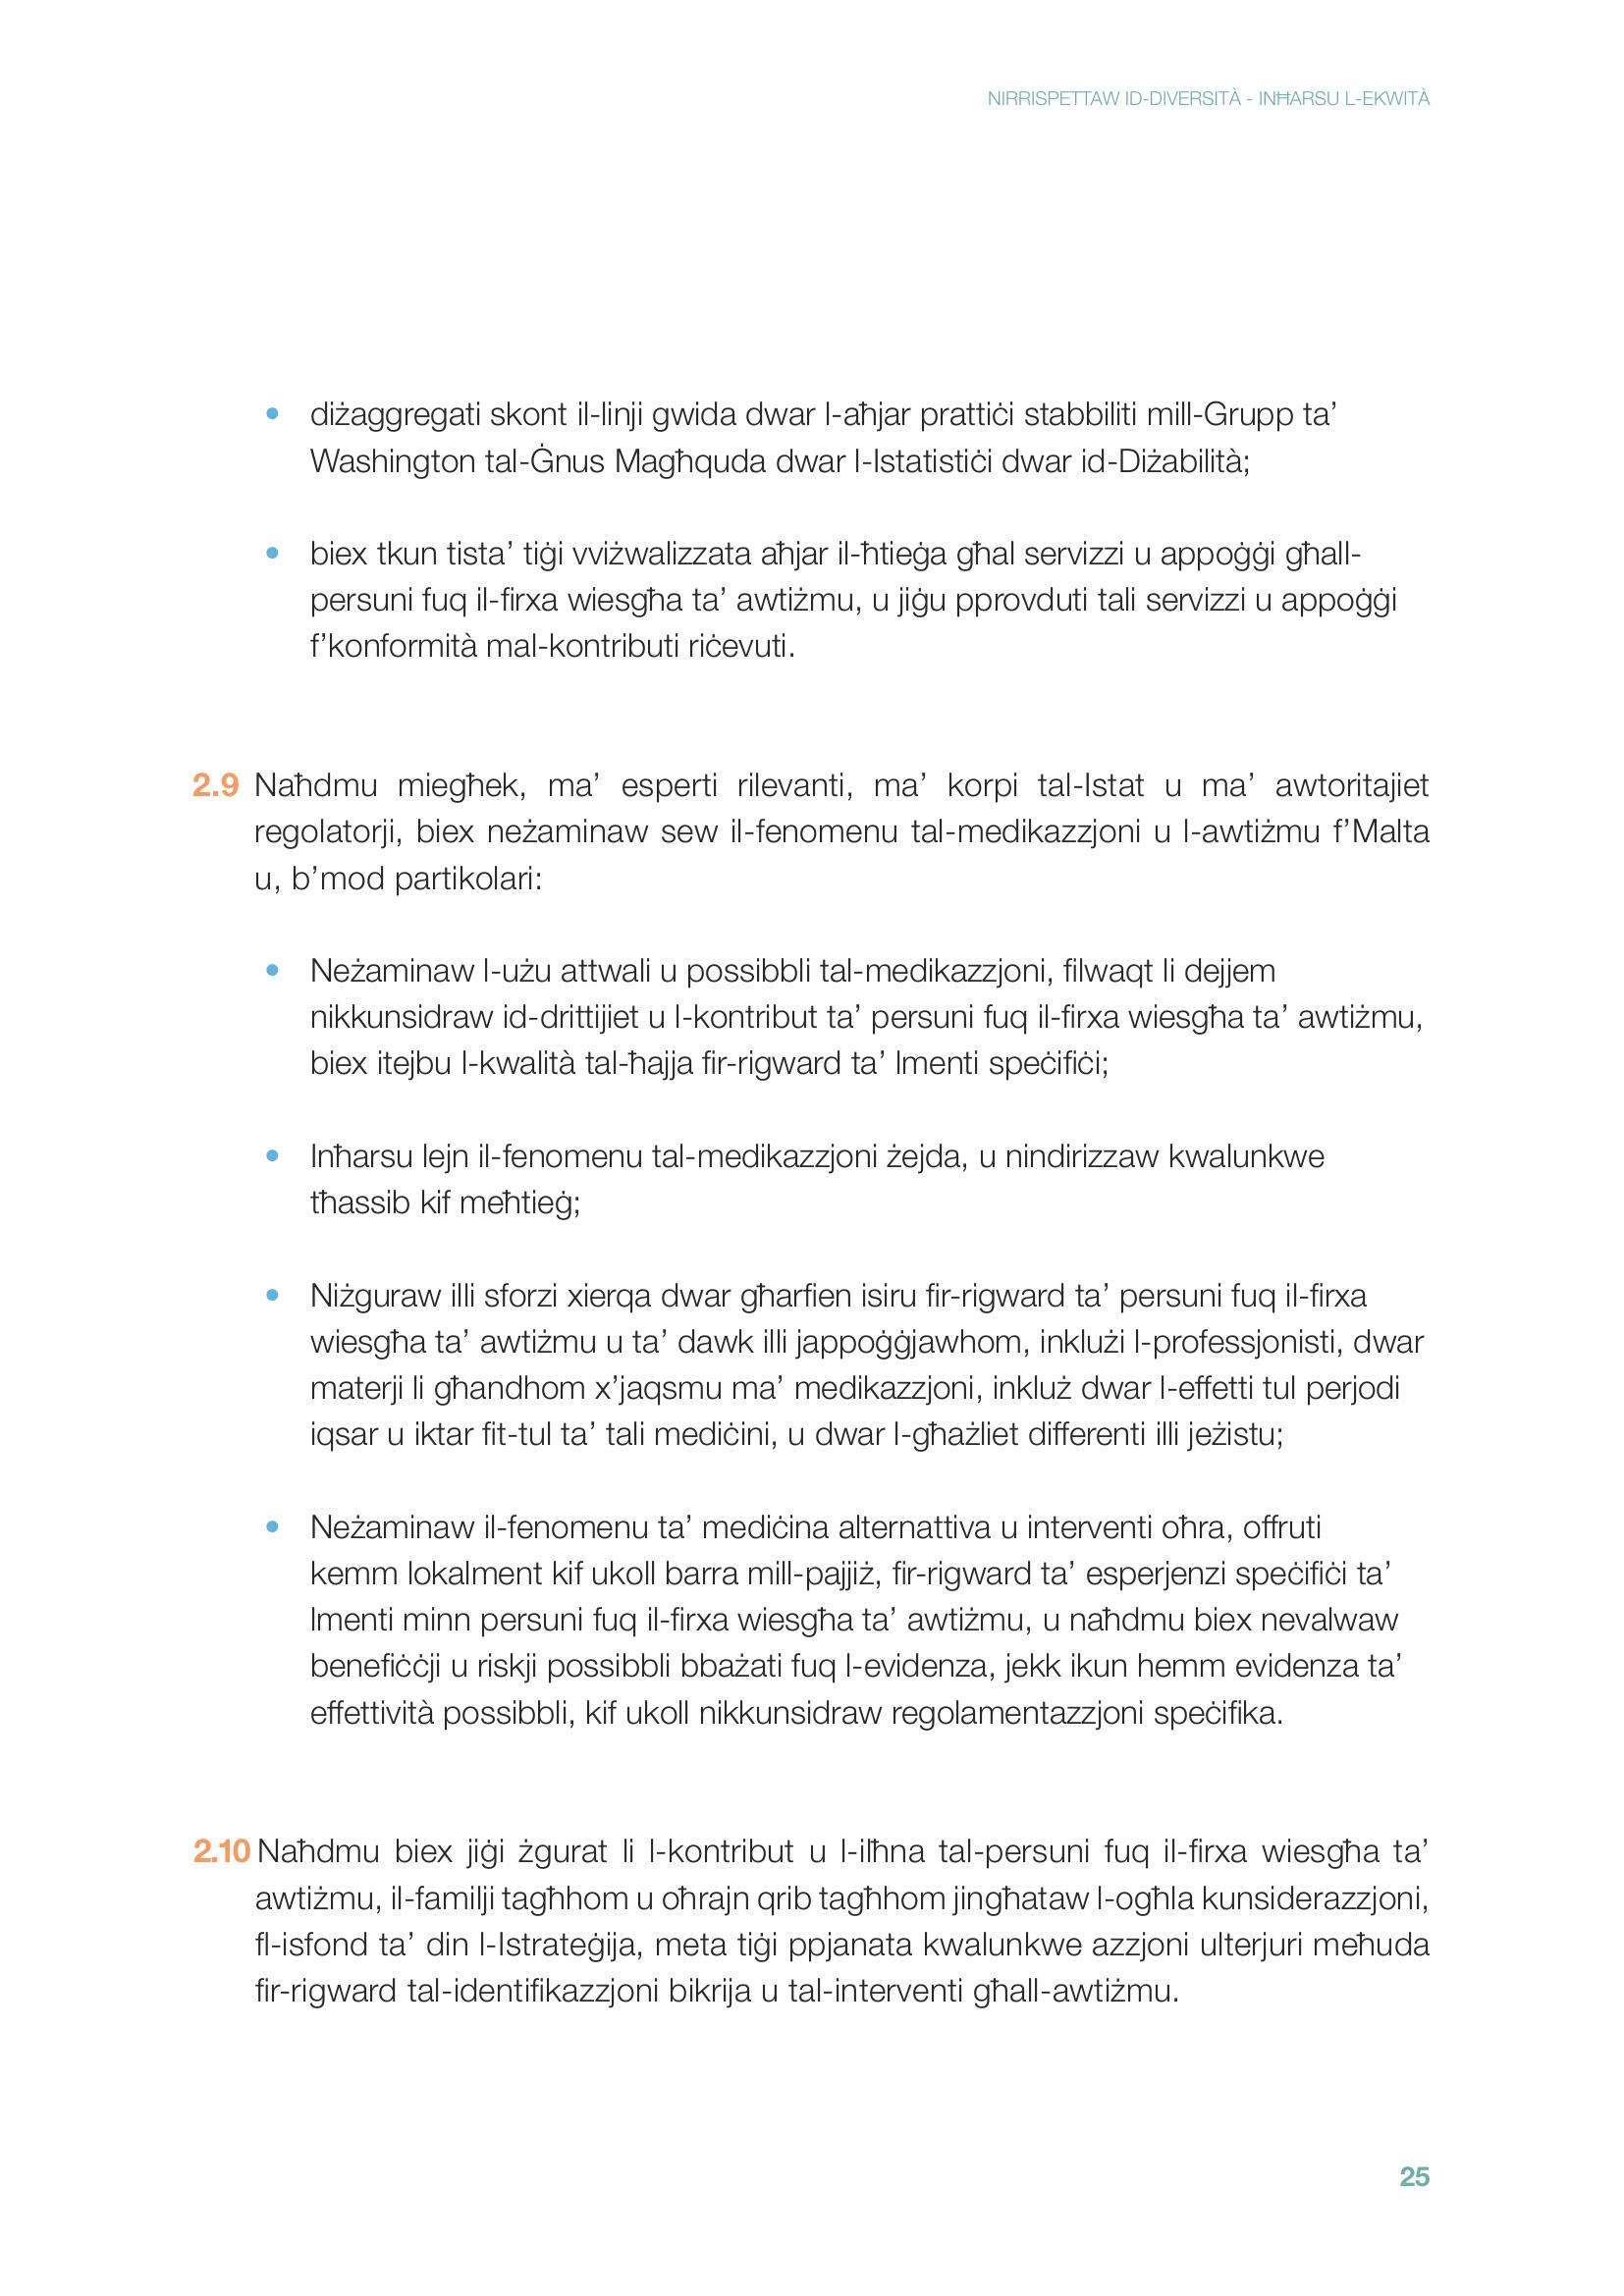text: (165, 364, 1455, 2041)
